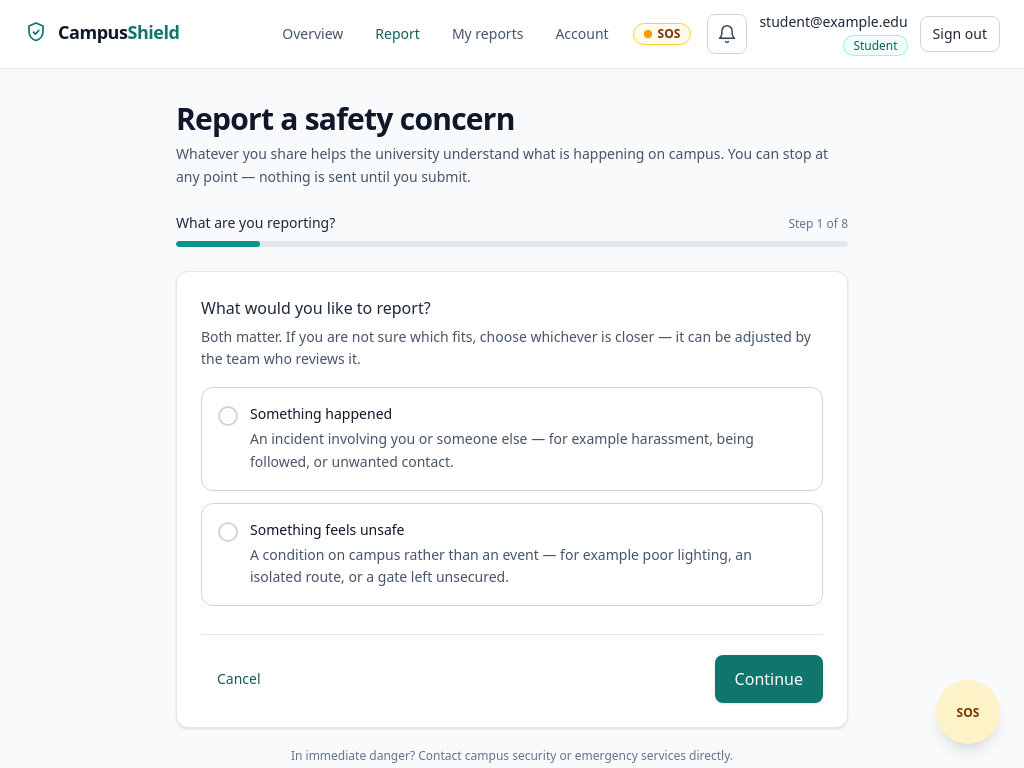
Scenario: ReportPage — required fields › requires a location
This screenshot has width=1024, height=768.
Expected: the heading "Report a safety concern" is shown, [176,98,515,139]
Step 1. Click the radio button labelled "Something happened" → (512, 439), box [201,387,823,490]
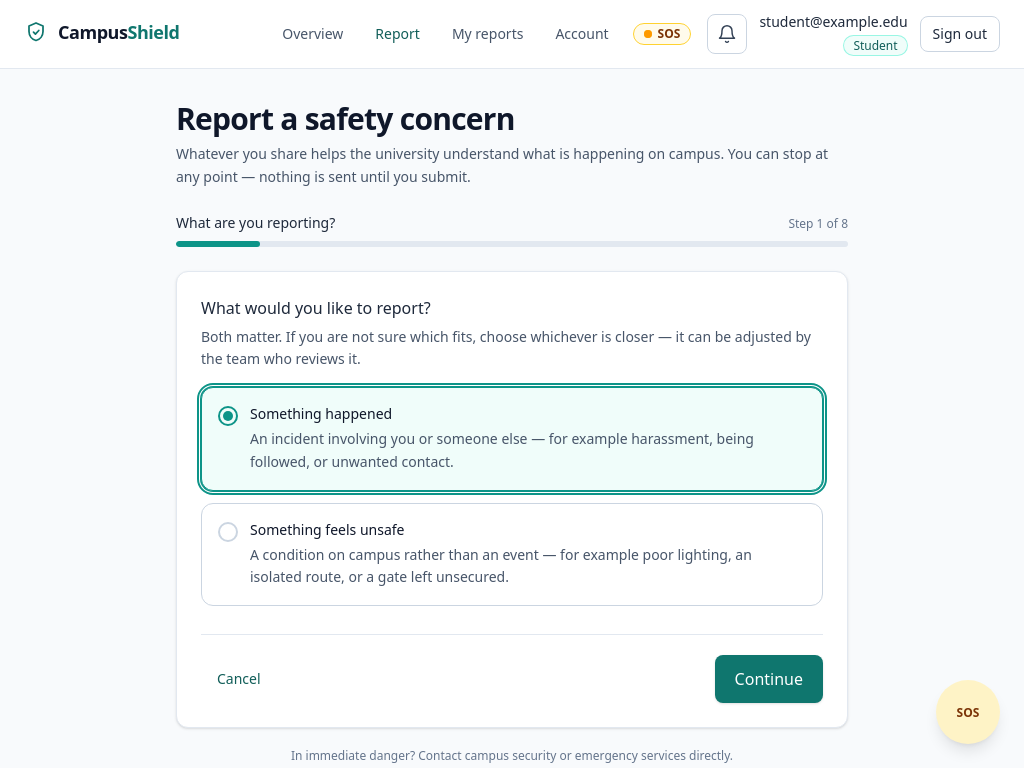
Step 2. Click the button "Continue" → (769, 679), box [715,655,823,703]
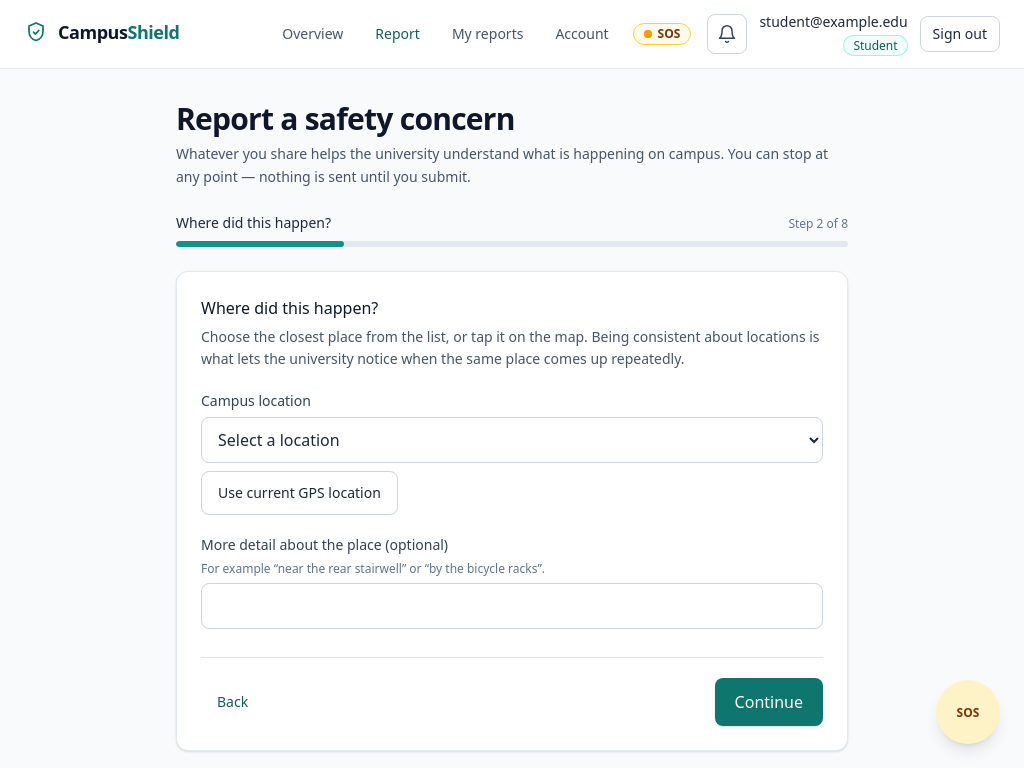
Result: the dropdown labelled "Campus location" is shown at [201,417,823,463]
Step 3. Click the button "Continue" → (769, 702), box [715,678,823,726]
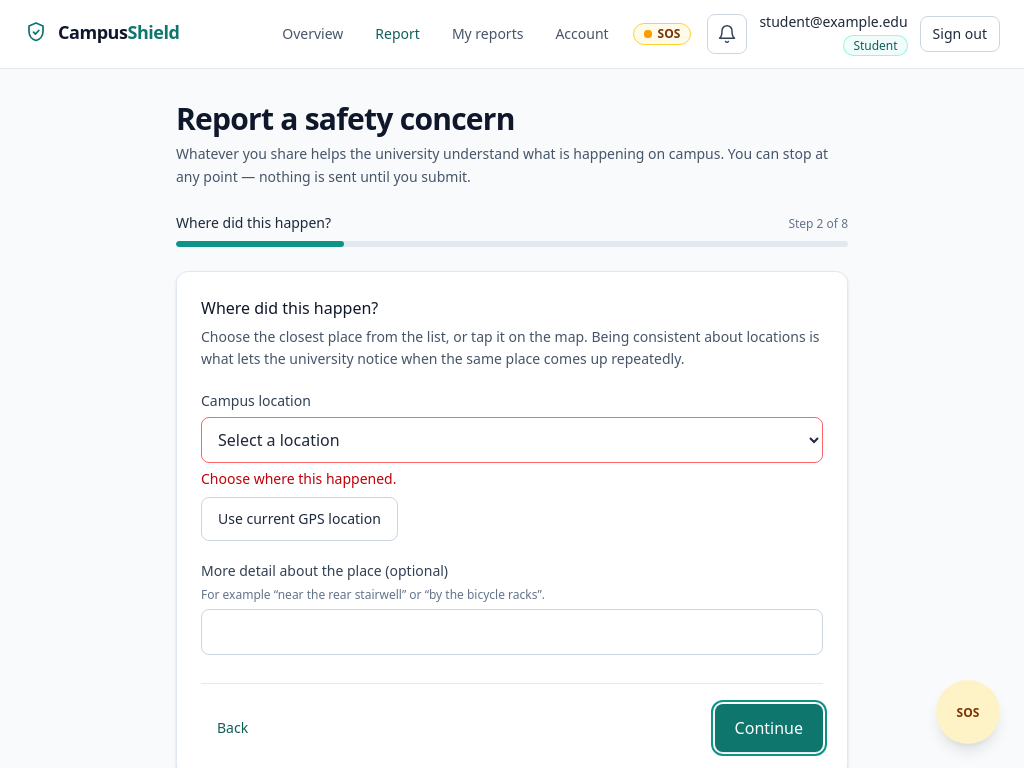
Result: the text "Choose where this happened." is shown at [201,469,396,488]
